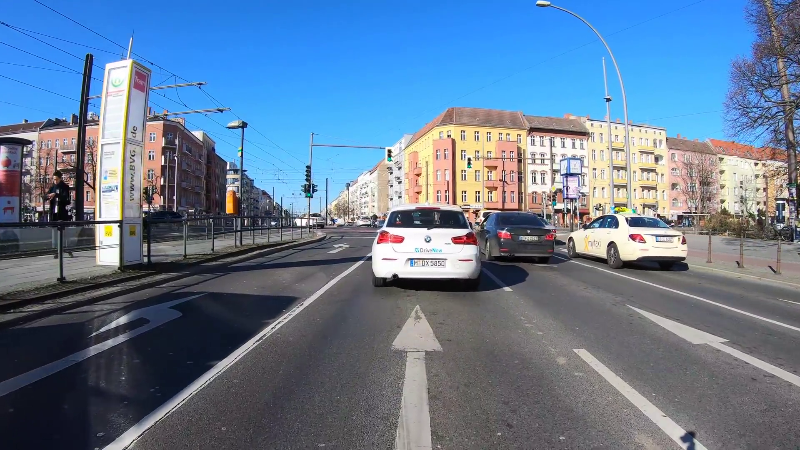Plate: (409, 258, 447, 267), (517, 233, 538, 242), (654, 234, 675, 243)
